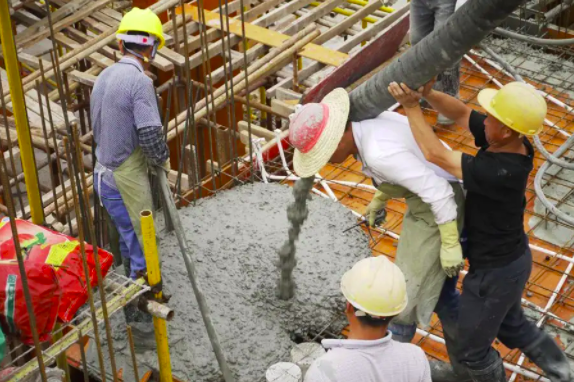person: (283, 86, 462, 344), (448, 72, 574, 382), (79, 6, 176, 310), (302, 256, 433, 382)
